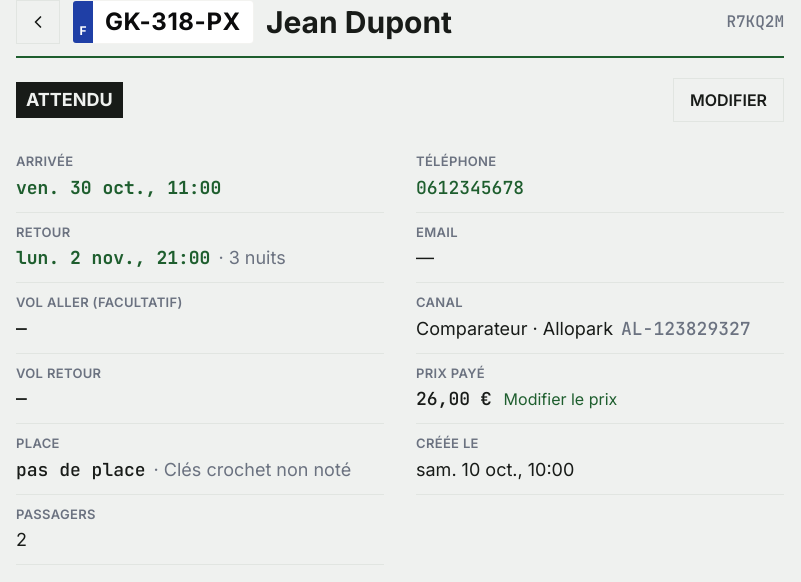
ReservationPage · prix payé (10/10/2026) › modifie le prix d'une réservation importée, sur la fiche
Expected: the text "26,00 €" is shown, left=416, top=385, right=492, bottom=413
Click the button "Modifier le prix": {"x": 560, "y": 399} left=504, top=387, right=617, bottom=411
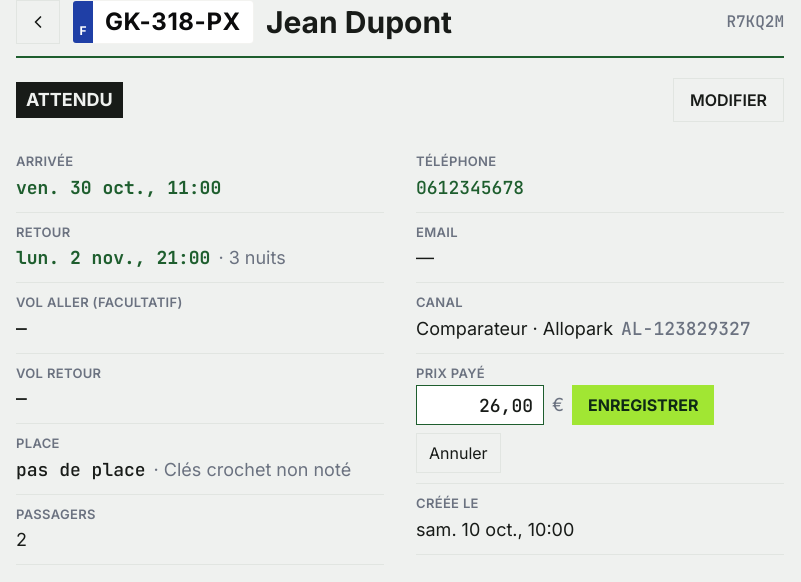
Expected: the field named "Prix payé en euros" holds "26,00"
Replace the text in the field named "Prix payé en euros" with "31,50": {"x": 480, "y": 405} left=416, top=385, right=544, bottom=425
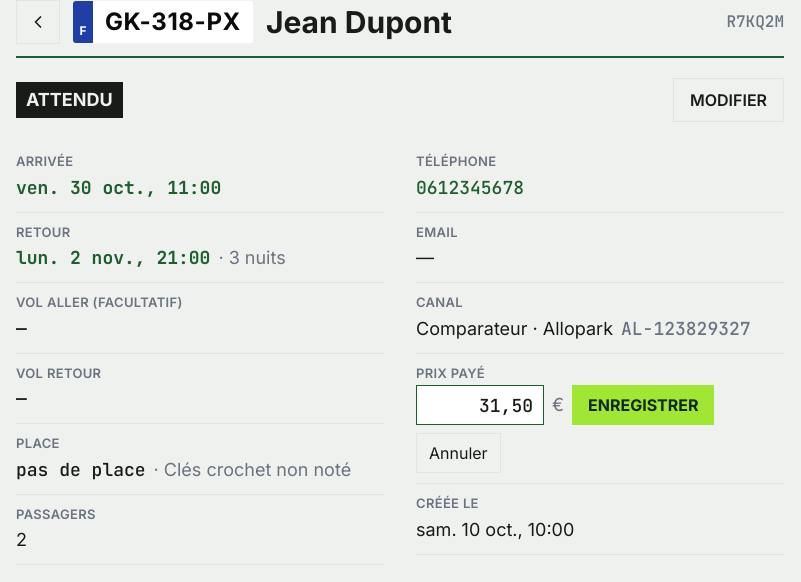
Click the button "Enregistrer": {"x": 643, "y": 405} left=572, top=385, right=714, bottom=425
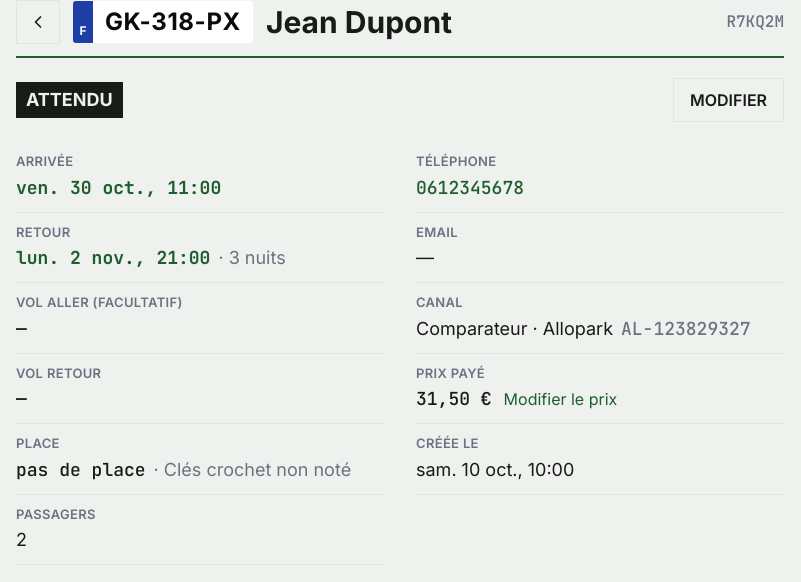
Expected: the text "31,50 €" is shown, left=416, top=385, right=492, bottom=413
